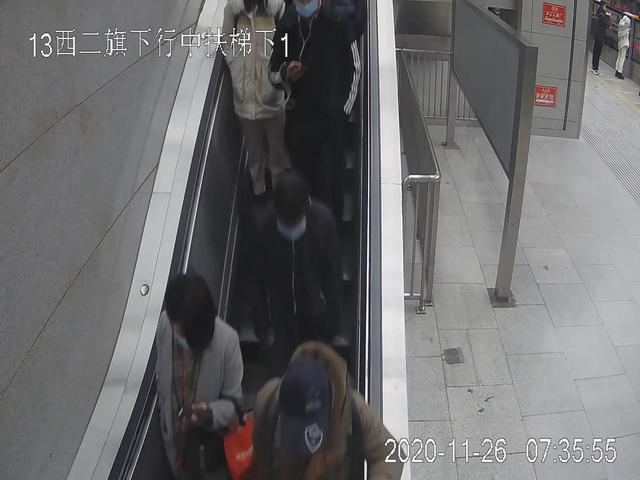person: (252, 179, 345, 478), (268, 1, 368, 249), (219, 1, 293, 208), (590, 3, 606, 76), (615, 16, 630, 78)
